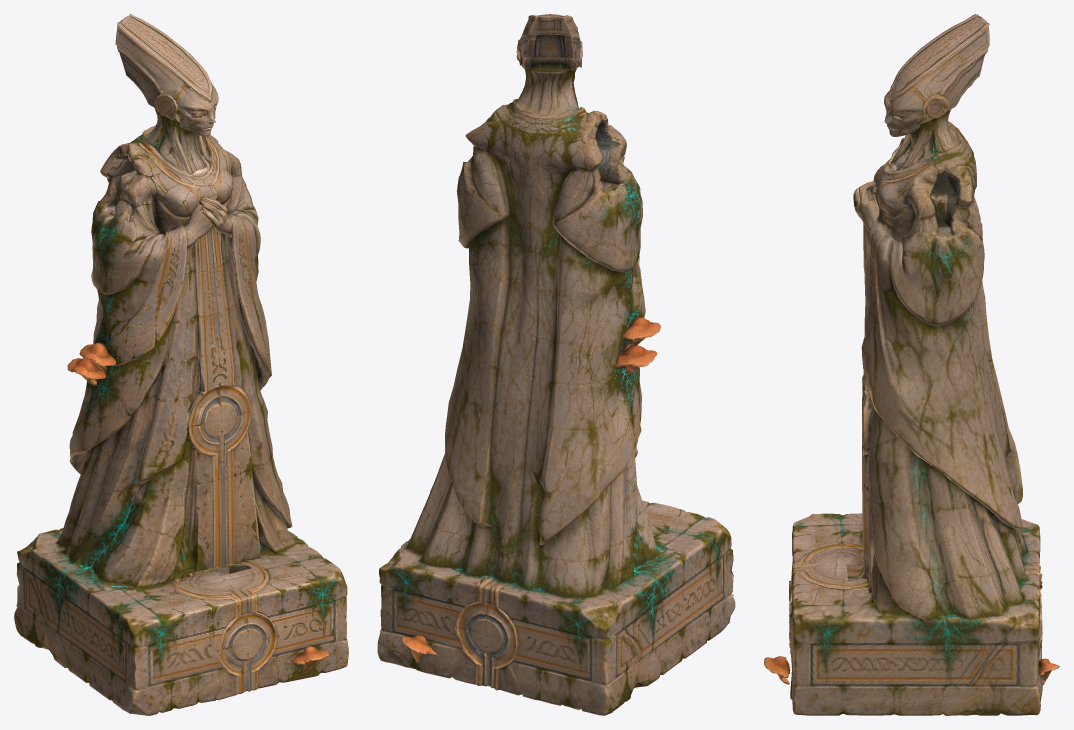
Rendered from citadel_statue.fbx.
3 renders of one model, left to right at view 1: azimuth 30°, elevation 25°; view 2: azimuth 150°, elevation 25°; view 3: azimuth 270°, elevation 25°, orthographic. The views are drawn at different scales.
Parts seen in each view (by area): view 1: citadel_statue; view 2: citadel_statue; view 3: citadel_statue.
Part boxes in pixels (x1,y1,x2,y2): citadel_statue: (14,14,348,715); citadel_statue: (377,14,735,715); citadel_statue: (764,14,1059,715).
Bounding box in the file's own units: 7.39 × 20 × 8.49.
